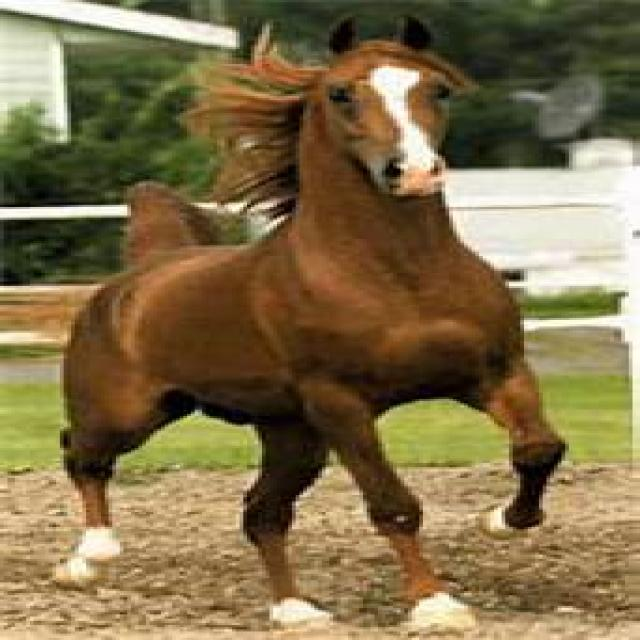horse: (55, 21, 566, 631)
